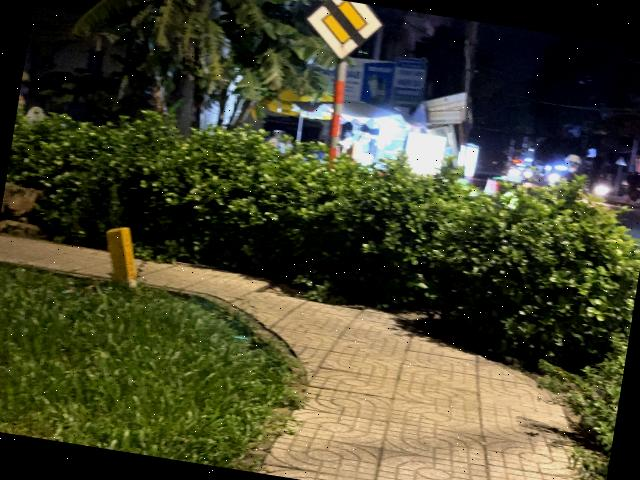het-duong-uu-tien: (296, 0, 386, 69)
